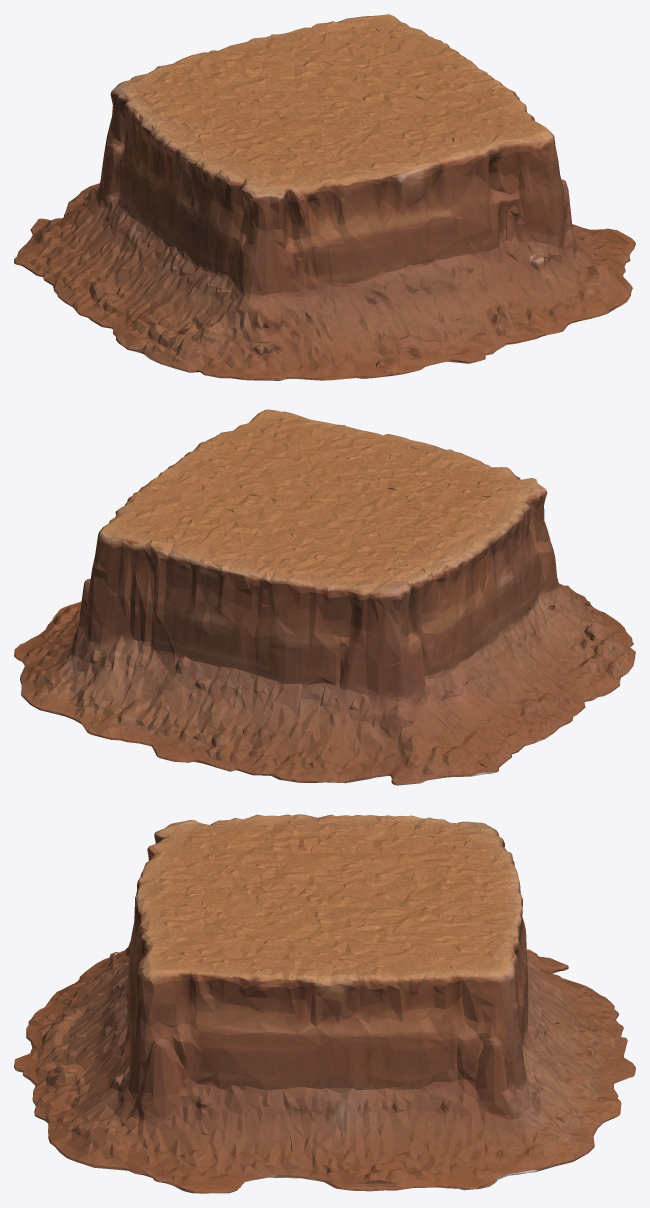
Rendered from mesa-mesa.glb.
3 views of the same model, one above another, from view 1: azimuth 30°, elevation 25°; view 2: azimuth 150°, elevation 25°; view 3: azimuth 270°, elevation 25° (orthographic). The views are drawn at different scales.
Visible parts, largest first — view 1: tmps7iflpuv.ply; view 2: tmps7iflpuv.ply; view 3: tmps7iflpuv.ply.
Boxes of the visible parts, left/top/right/bottom form: tmps7iflpuv.ply: left=14, top=14, right=635, bottom=380; tmps7iflpuv.ply: left=14, top=409, right=635, bottom=785; tmps7iflpuv.ply: left=14, top=814, right=635, bottom=1193.
Bounding box in the file's own units: 1.98 × 0.6032 × 1.99.
Materials: 1 (1 with a texture image).
